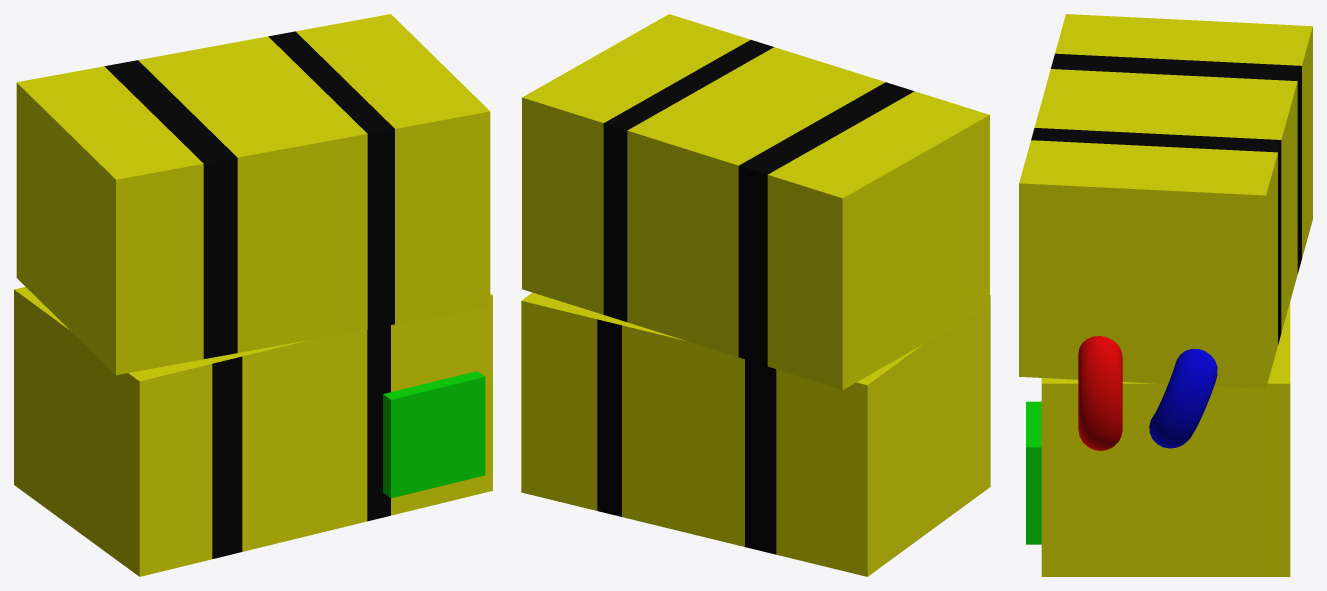
The picture shows the model from 3 angles, left to right: view 1: azimuth 30°, elevation 25°; view 2: azimuth 150°, elevation 25°; view 3: azimuth 270°, elevation 25°; orthographic projection.
Parts seen in each view (by area): view 1: pCube4; view 2: pCube4; view 3: pCube4.
Boxes of the visible parts, x1,y1,x2,y2 form: pCube4: (14,14,492,576); pCube4: (521,14,990,576); pCube4: (1019,14,1312,576).
Bounding box in the file's own units: 22.94 × 22.16 × 15.25.
